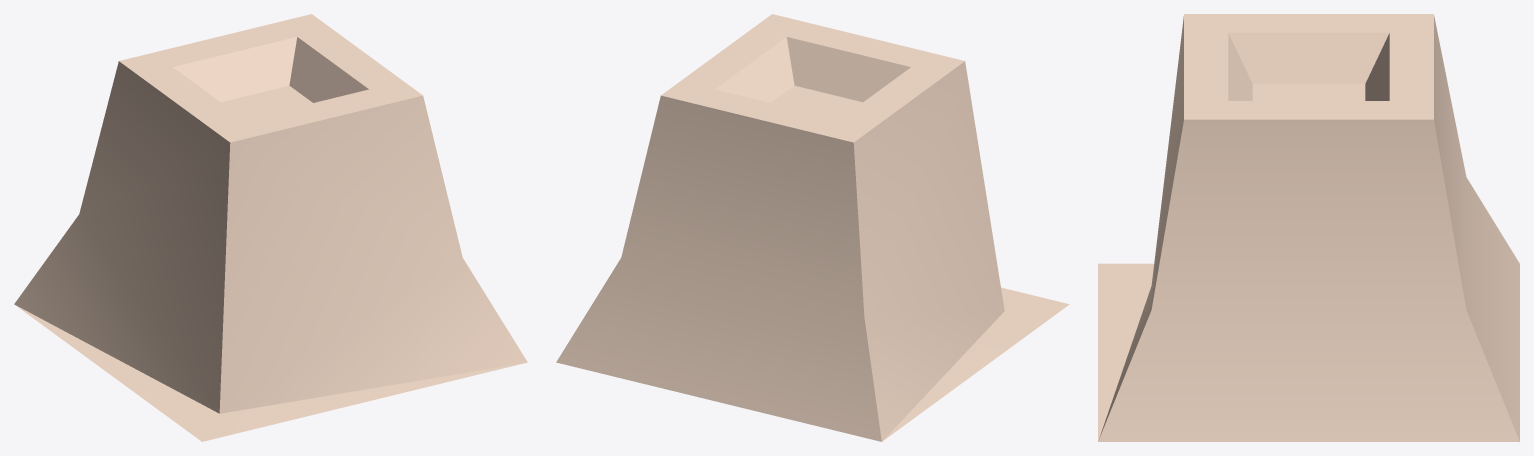
Rendered from treeStump.fbx.
The picture shows the model from 3 angles, left to right: view 1: azimuth 30°, elevation 25°; view 2: azimuth 150°, elevation 25°; view 3: azimuth 270°, elevation 25°; orthographic projection. The views are drawn at different scales.
Visible parts, largest first — view 1: treeStump; view 2: treeStump; view 3: treeStump.
Boxes of the visible parts, x1,y1,x2,y2 form: treeStump: (14,14,527,441); treeStump: (556,14,1069,441); treeStump: (1098,14,1519,441).
Size of the model in its own units: 84.39 by 63.15 by 84.39.
